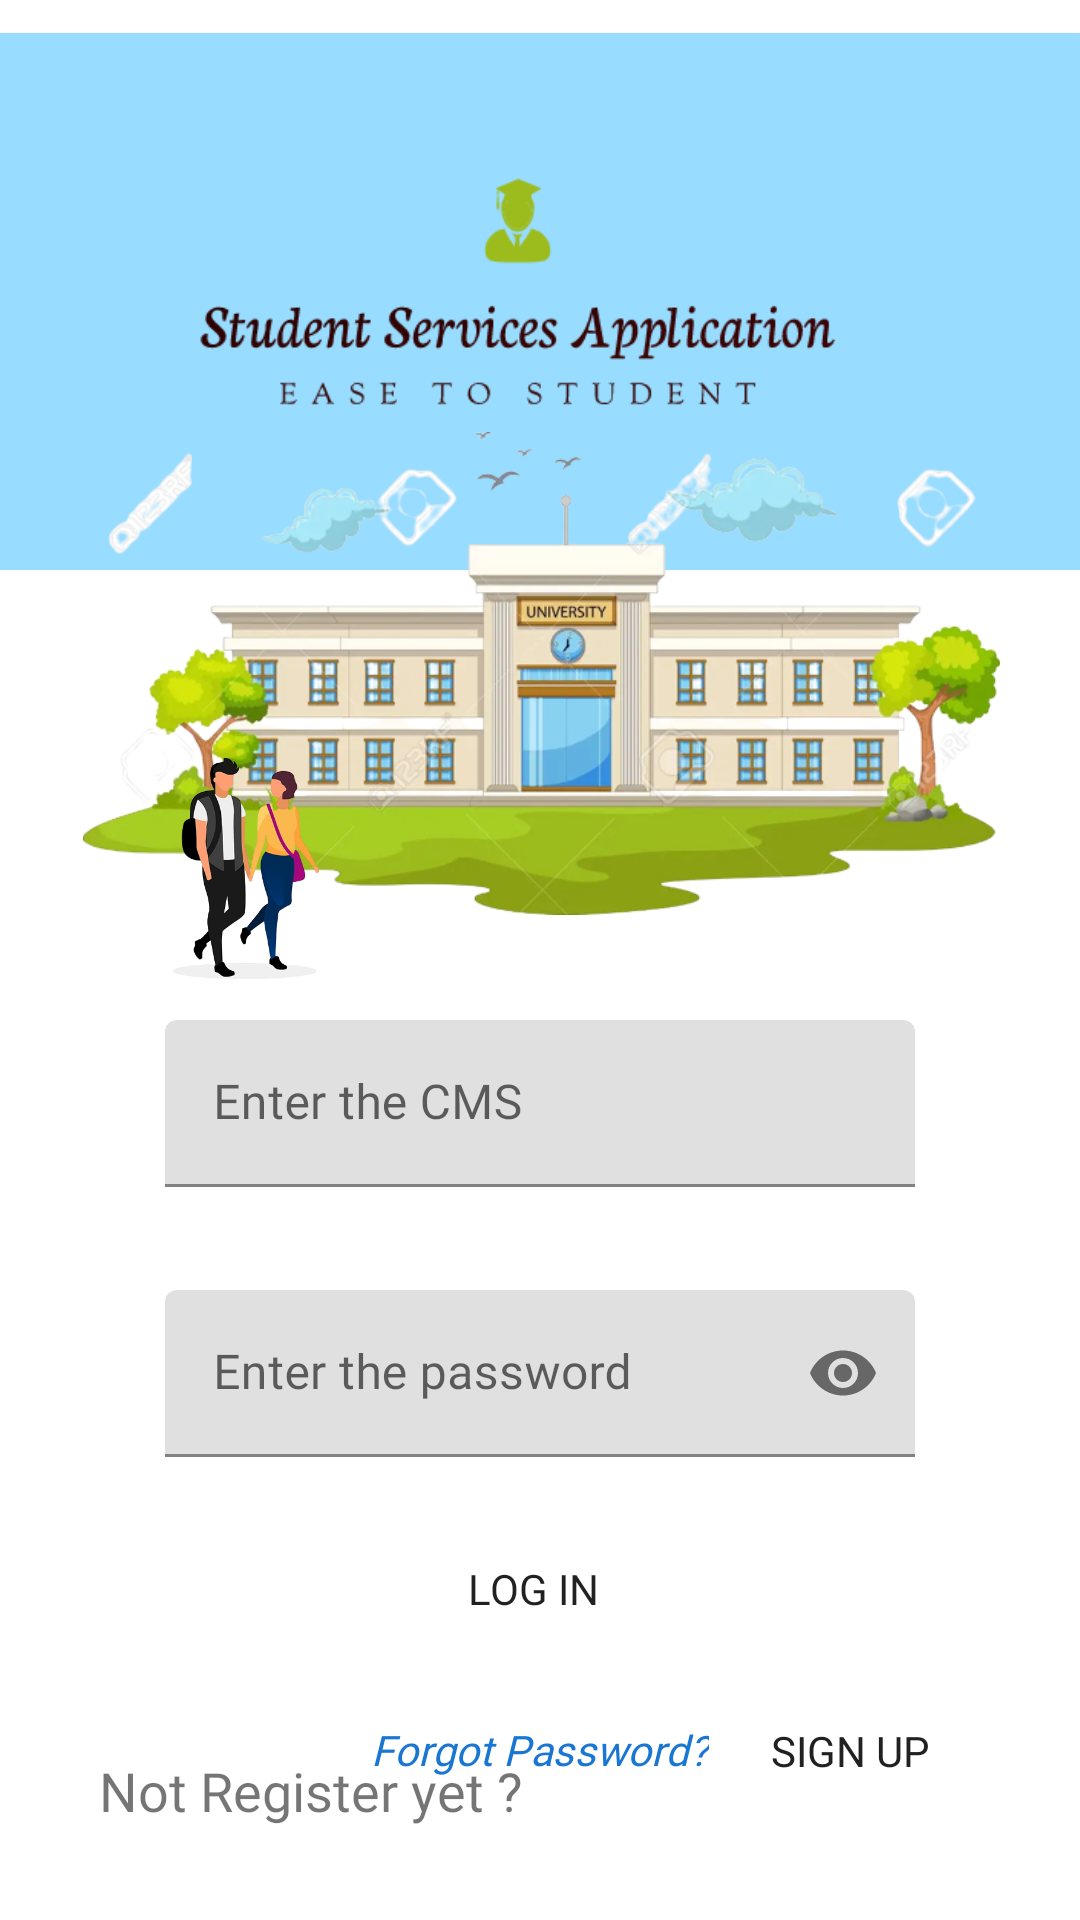

Where to tap for icons on this 1080 × 1920 app screen, as (x,y):
students: (250,848)
